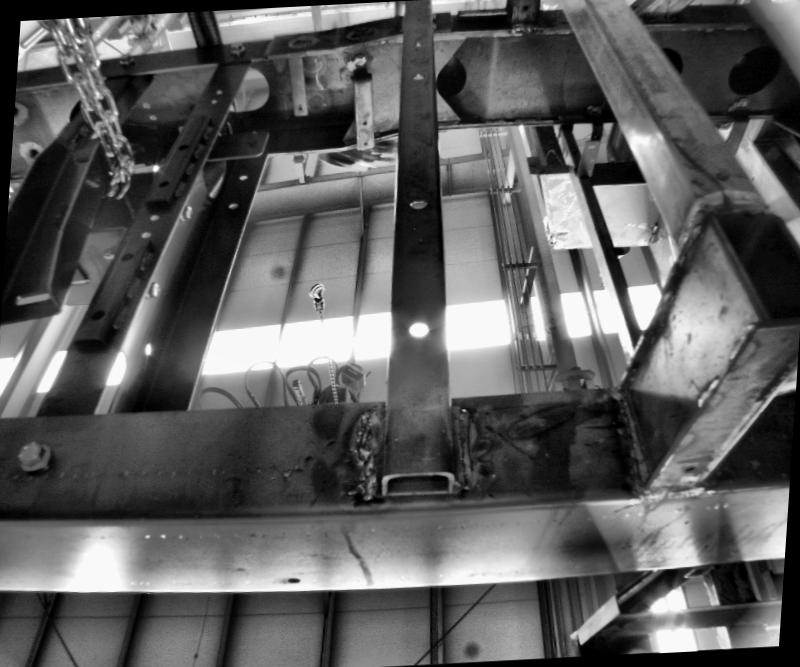bolt: (8, 436, 47, 468), (176, 202, 197, 223), (138, 276, 158, 296), (226, 39, 250, 55), (114, 52, 136, 68)
bracket: (342, 54, 378, 155), (213, 120, 270, 156), (286, 48, 316, 115), (569, 129, 608, 176)
hole: (400, 308, 432, 338), (407, 194, 432, 212), (714, 161, 734, 174), (136, 336, 150, 351), (684, 461, 698, 474), (410, 70, 425, 78), (241, 134, 254, 143), (139, 230, 152, 238), (149, 213, 160, 222), (286, 577, 300, 583), (227, 200, 237, 208), (586, 142, 597, 149), (210, 96, 219, 104), (412, 38, 422, 44), (360, 120, 368, 127), (238, 174, 247, 180), (296, 104, 302, 110), (215, 87, 221, 93), (362, 140, 368, 145)
welding: (443, 397, 488, 486), (351, 402, 377, 503)
